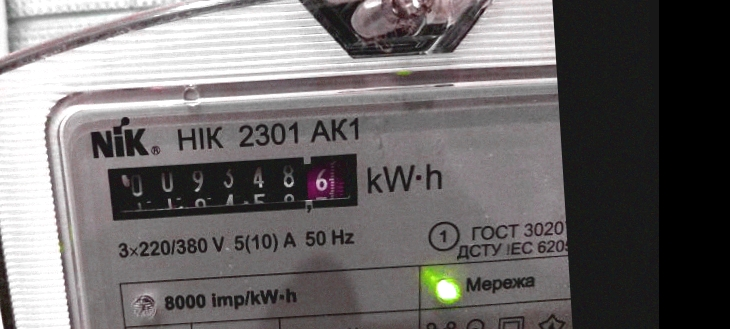0: (128, 170, 143, 196), (158, 168, 174, 192)
3: (219, 163, 234, 190)
4: (249, 161, 264, 189)
6: (311, 164, 330, 192)
8: (279, 160, 295, 189)
9: (188, 166, 205, 193)
screen: (96, 144, 369, 229)
